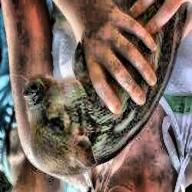boar: (3, 0, 192, 180)
